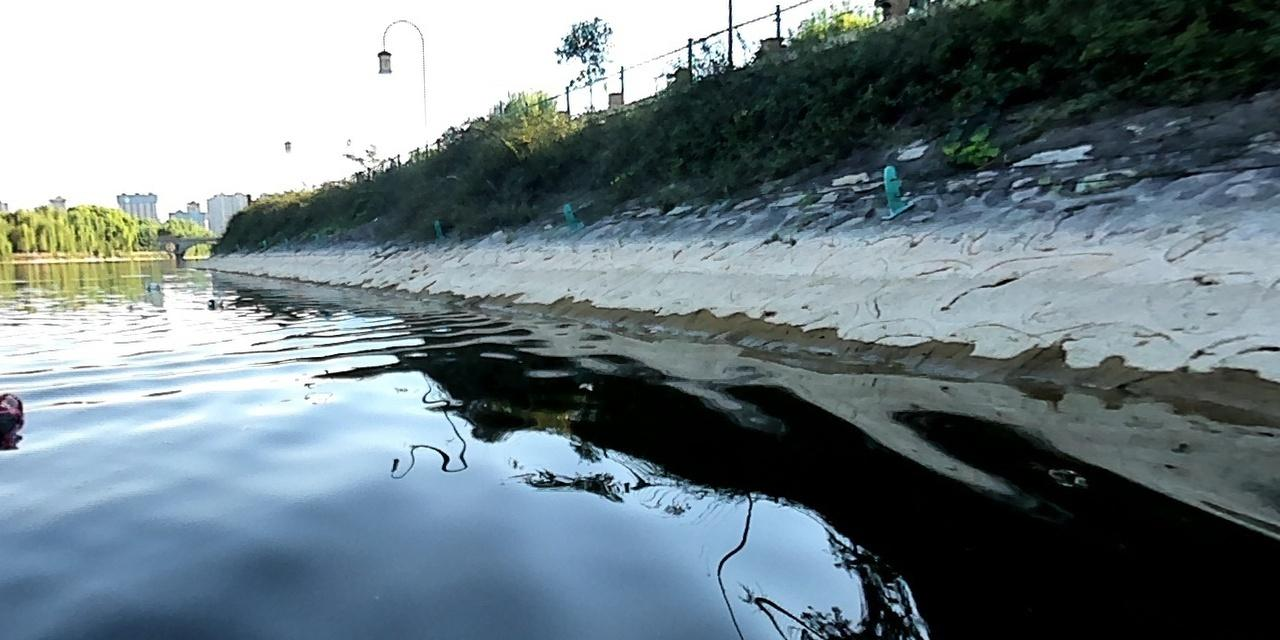bottle: (0, 392, 25, 432), (203, 293, 226, 309), (143, 279, 165, 290)
